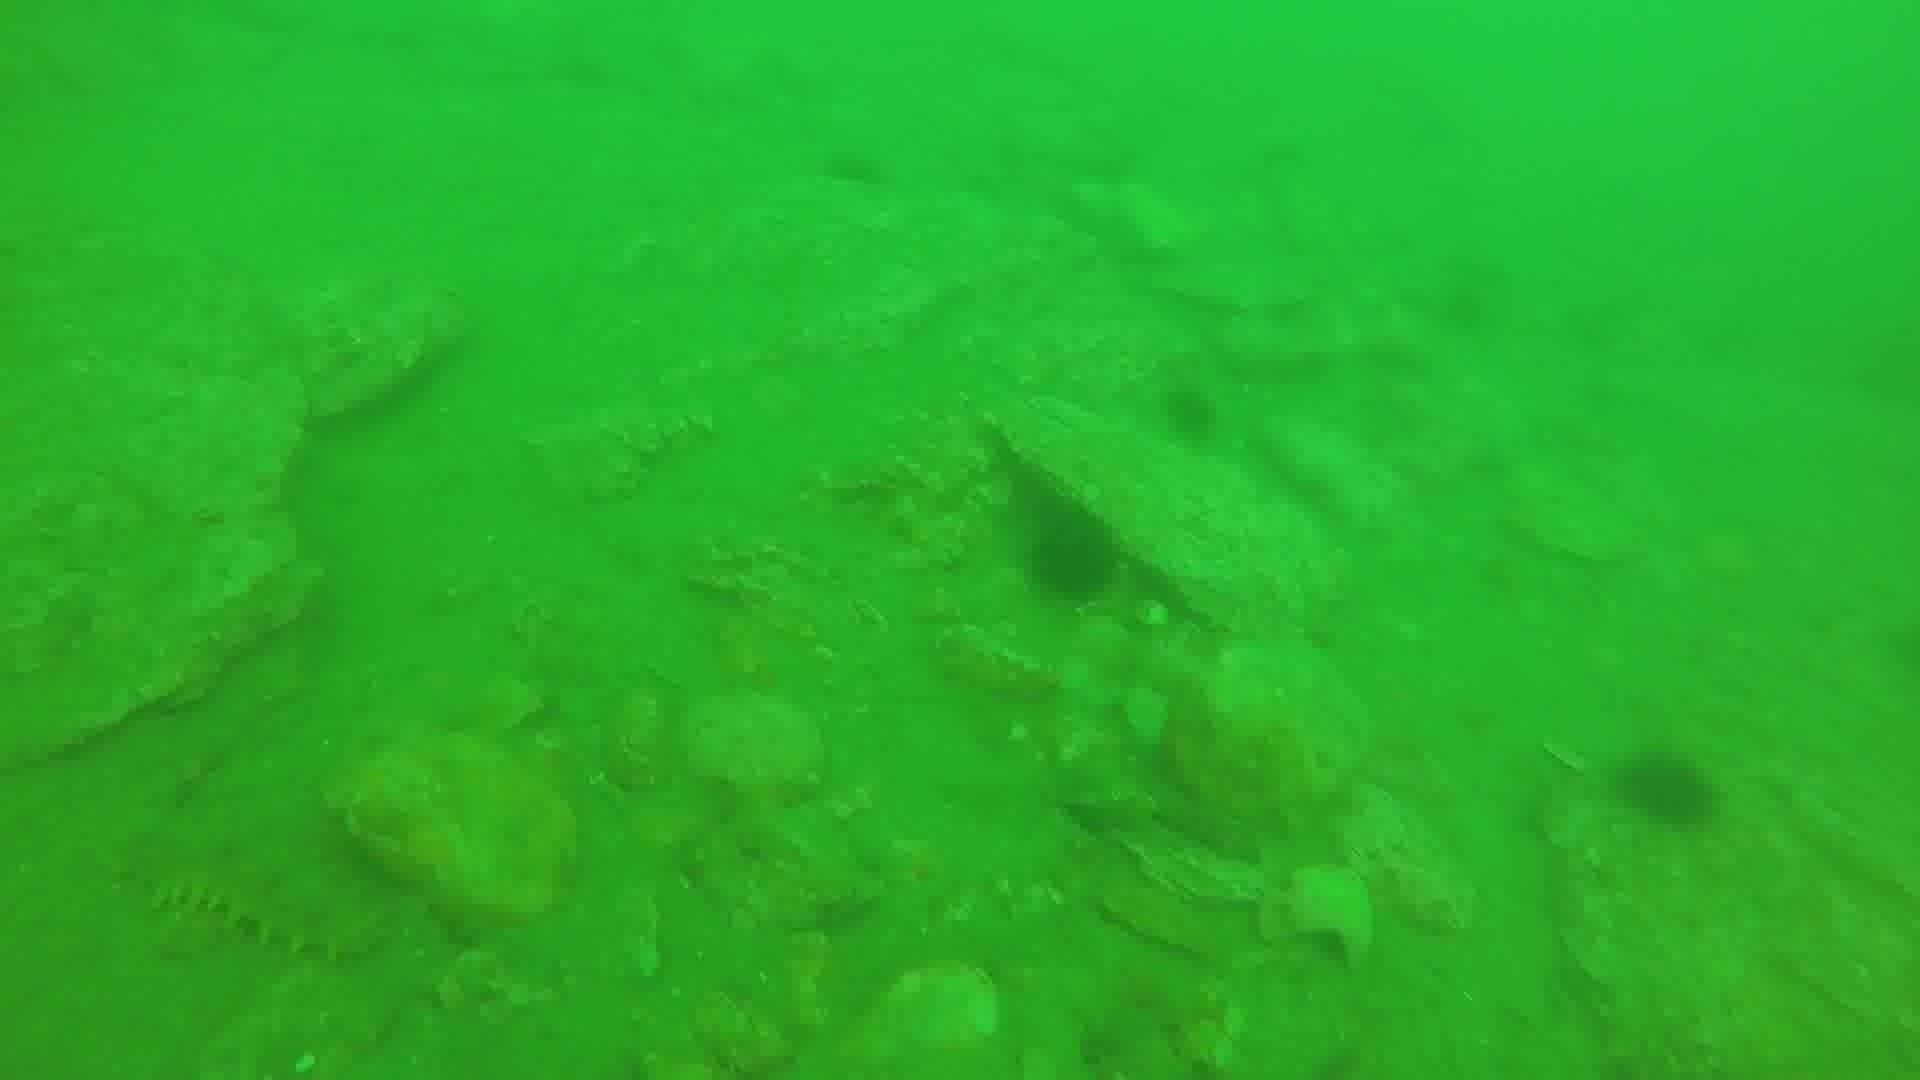echinus: (1021, 513, 1124, 608), (1611, 748, 1721, 833), (1154, 378, 1225, 448)
holothurian: (109, 825, 386, 964)
scallop: (878, 959, 1004, 1060)
